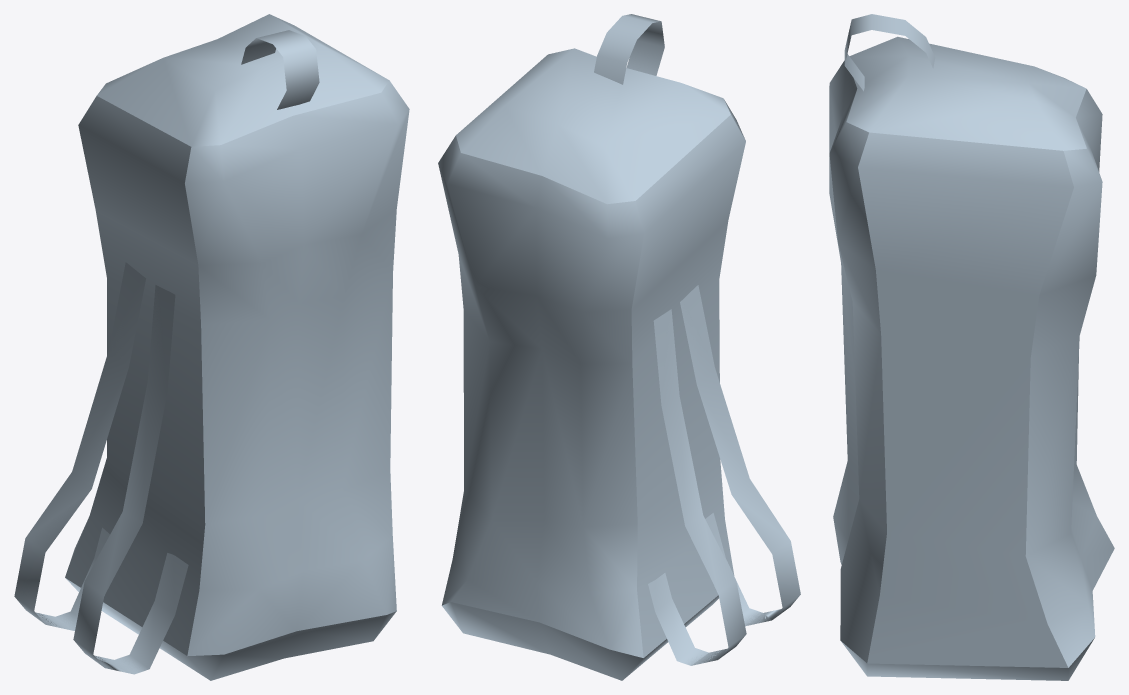
The model's file is bag1.fbx.
3 views of the same model, side by side, from view 1: azimuth 30°, elevation 25°; view 2: azimuth 150°, elevation 25°; view 3: azimuth 270°, elevation 25° (orthographic). The views are drawn at different scales.
Visible parts, largest first — view 1: armor_09; view 2: armor_09; view 3: armor_09.
Boxes of the visible parts, x1,y1,x2,y2 form: armor_09: (14,14,409,680); armor_09: (438,14,800,680); armor_09: (829,14,1114,680).
Bounding box in the file's own units: 52.13 × 102 × 42.88.
